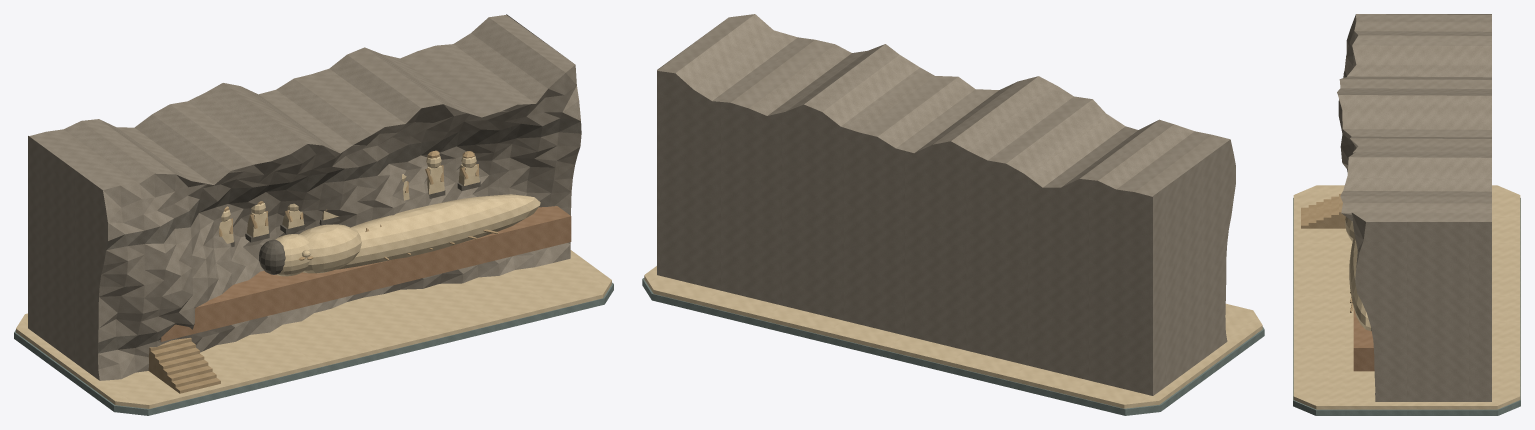
The model's file is dazu.glb.
The picture shows the model from 3 angles, left to right: view 1: azimuth 30°, elevation 25°; view 2: azimuth 150°, elevation 25°; view 3: azimuth 270°, elevation 25°; orthographic projection. The views are drawn at different scales.
Parts seen in each view (by area): view 1: 大足石刻; view 2: 大足石刻; view 3: 大足石刻.
Boxes of the visible parts, x1=… form: 大足石刻: x1=14, y1=14, x2=613, y2=415; 大足石刻: x1=642, y1=14, x2=1264, y2=415; 大足石刻: x1=1293, y1=14, x2=1520, y2=415.
Bounding box in the file's own units: 12.8 × 5.14 × 5.55.
Materials: 6 (6 with a texture image).
